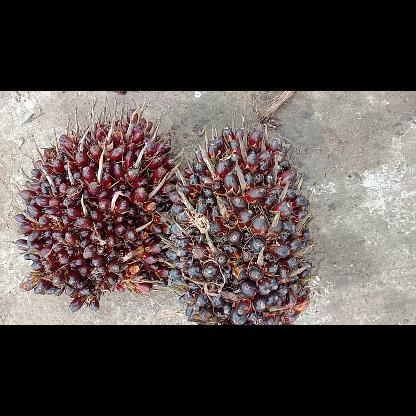Kurang masak: (14, 107, 172, 310), (170, 124, 310, 322)
